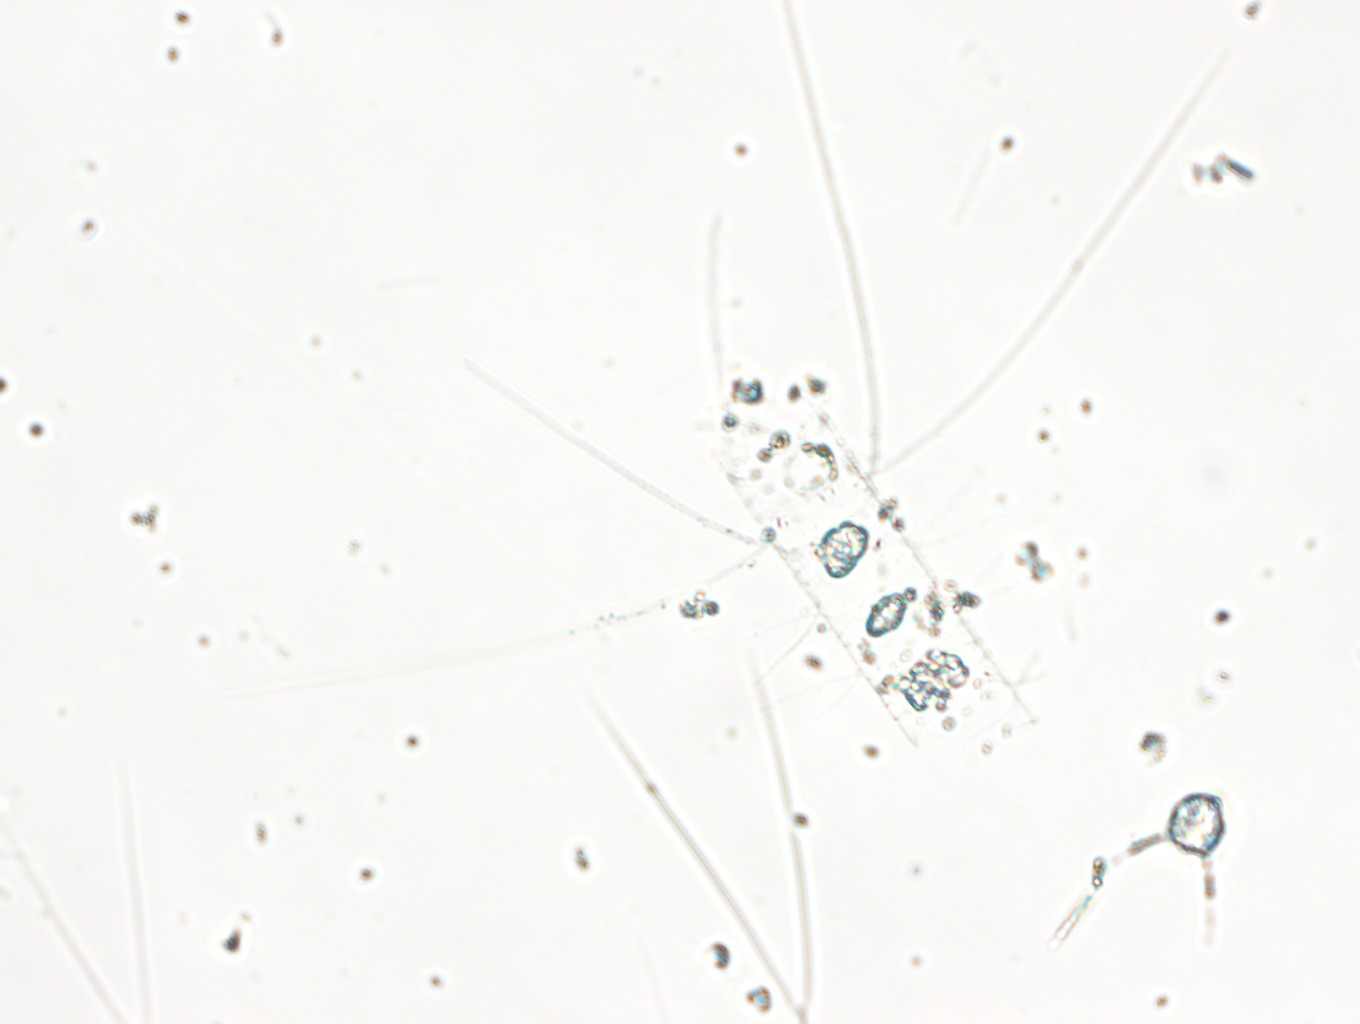chaetoceros: (443, 1, 1220, 801)
